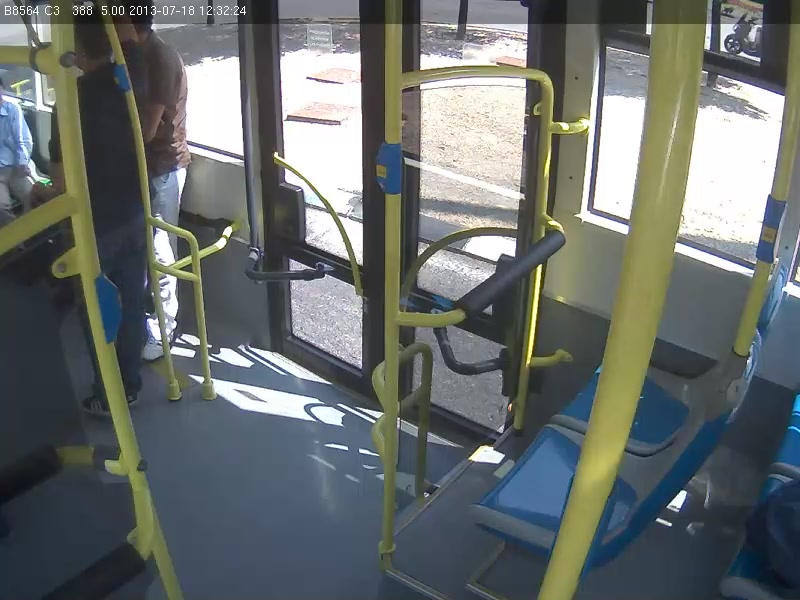Head: (65, 12, 115, 73), (116, 0, 154, 44)
